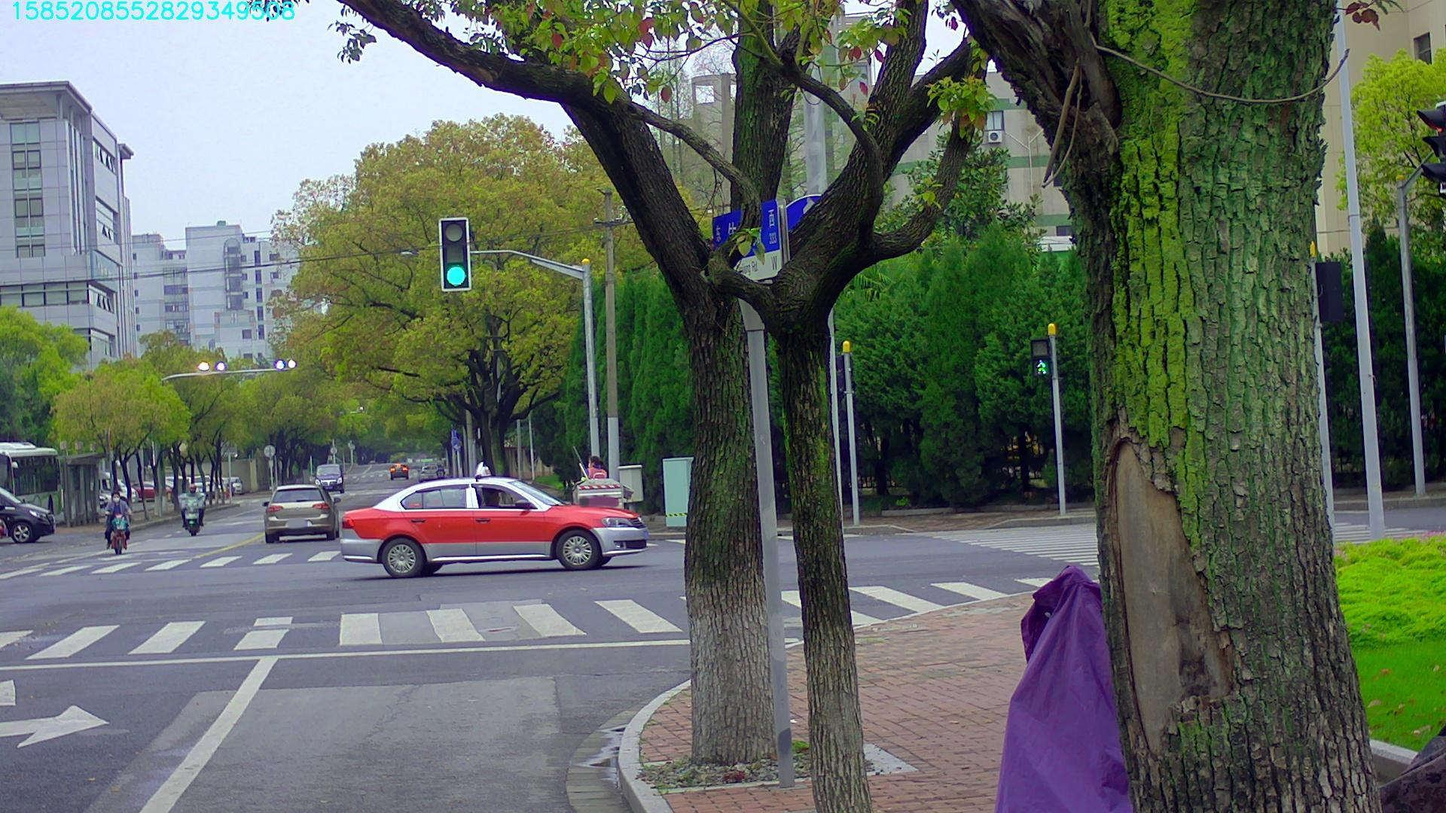green: (439, 218, 469, 289)
